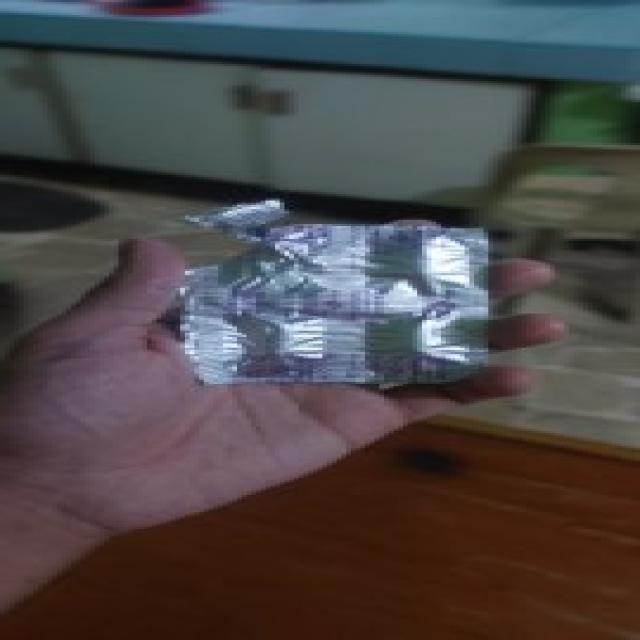Cacat: (169, 190, 500, 388)
Kemasan: (180, 196, 365, 286)
